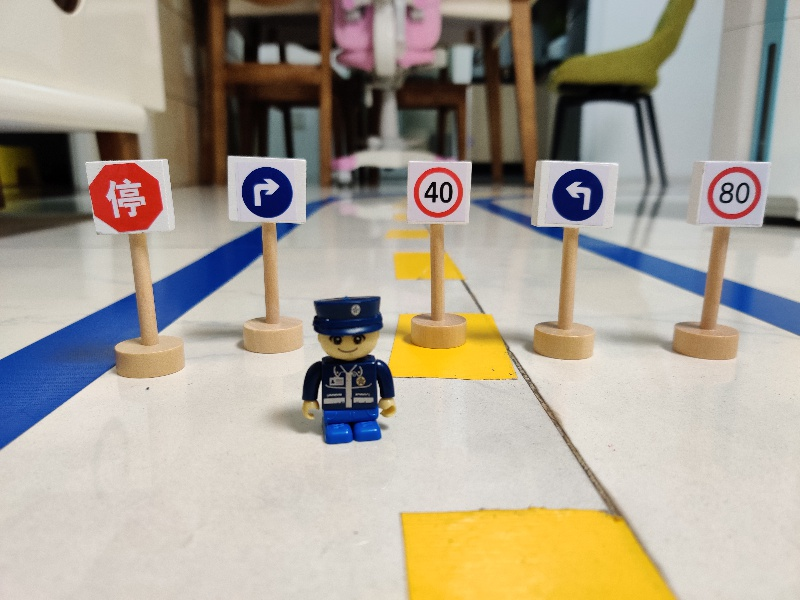limit_40: (403, 157, 475, 227)
limit_80: (688, 156, 771, 230)
person: (296, 287, 401, 447)
stop: (81, 158, 177, 237)
turn_left: (529, 158, 618, 229)
turn_right: (222, 151, 311, 227)
